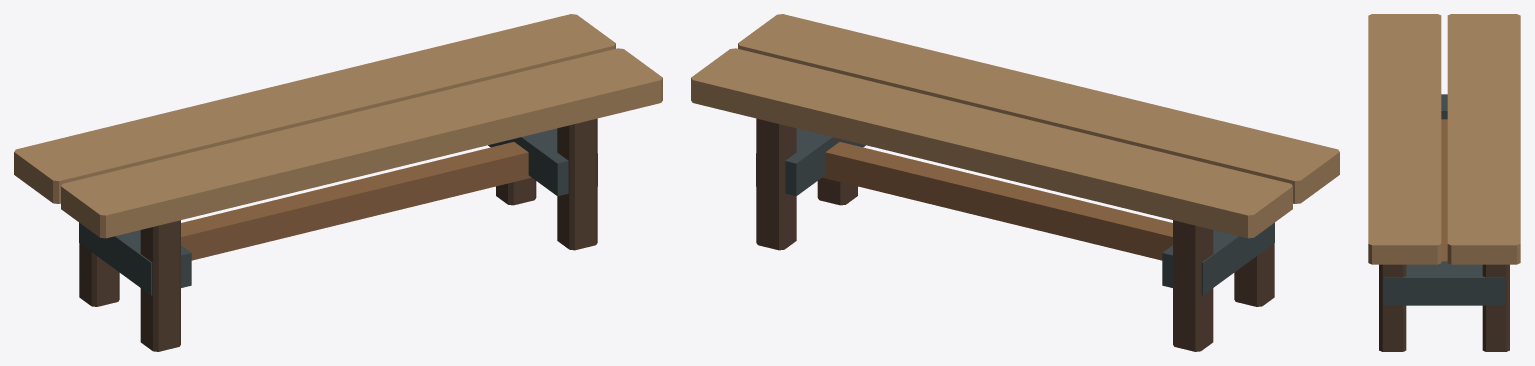
Rendered from bench_mine.glb.
3 renders of one model, left to right at view 1: azimuth 30°, elevation 25°; view 2: azimuth 150°, elevation 25°; view 3: azimuth 270°, elevation 25°, orthographic. The views are drawn at different scales.
Parts seen in each view (by area): view 1: geometry; view 2: geometry; view 3: geometry.
Boxes of the visible parts, <box> form: geometry: <box>14,14,662,351</box>; geometry: <box>691,14,1339,351</box>; geometry: <box>1368,14,1520,351</box>.
Bounding box in the file's own units: 1.8 × 0.475 × 0.5.
